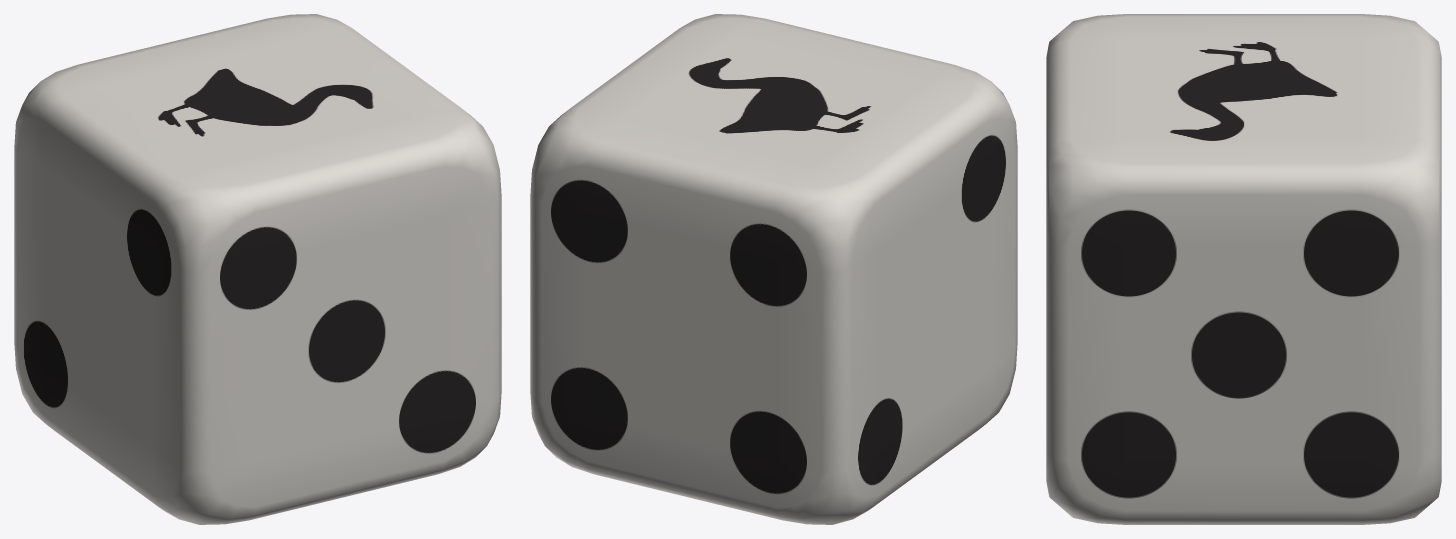
The model's file is dice-six-sided.fbx.
The picture shows the model from 3 angles, left to right: view 1: azimuth 30°, elevation 25°; view 2: azimuth 150°, elevation 25°; view 3: azimuth 270°, elevation 25°; orthographic projection. The views are drawn at different scales.
Parts seen in each view (by area): view 1: Cube; view 2: Cube; view 3: Cube.
Boxes of the visible parts, bbox=[...] form: Cube: bbox=[14, 14, 501, 524]; Cube: bbox=[530, 14, 1017, 524]; Cube: bbox=[1046, 14, 1441, 524].
Bounding box in the file's own units: 200 × 200 × 200.
1 material, 1 textured.
